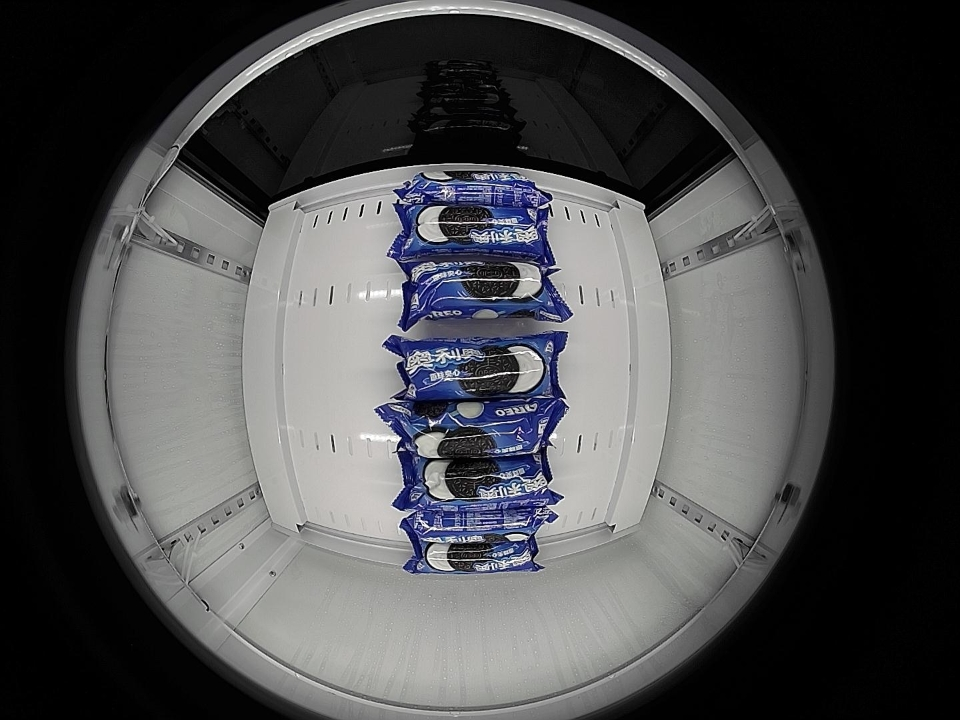aoliao: (395, 335, 563, 401), (400, 258, 562, 325), (395, 399, 564, 457), (395, 201, 554, 259), (404, 455, 556, 505), (396, 168, 552, 208), (402, 504, 549, 541), (406, 536, 541, 574)
